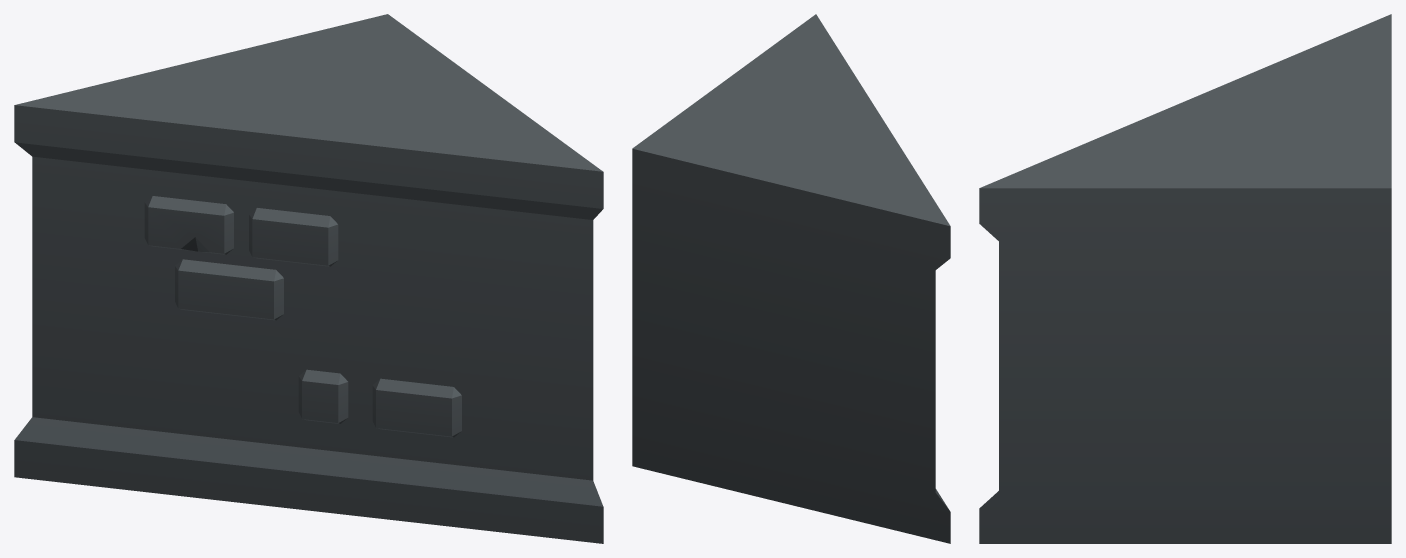
File: floor_foundation_diagonal_corner.gltf
The picture shows the model from 3 angles, left to right: view 1: azimuth 30°, elevation 25°; view 2: azimuth 150°, elevation 25°; view 3: azimuth 270°, elevation 25°; orthographic projection. The views are drawn at different scales.
Visible parts, largest first — view 1: floor_foundation_diagonal_corner; view 2: floor_foundation_diagonal_corner; view 3: floor_foundation_diagonal_corner.
Boxes of the visible parts, box(x1,y1,x2,y2) form: floor_foundation_diagonal_corner: box(14, 14, 603, 543); floor_foundation_diagonal_corner: box(632, 14, 950, 543); floor_foundation_diagonal_corner: box(979, 14, 1391, 543).
Bounding box in the file's own units: 2.1 × 2 × 2.1.
Materials: 1 (1 with a texture image).
